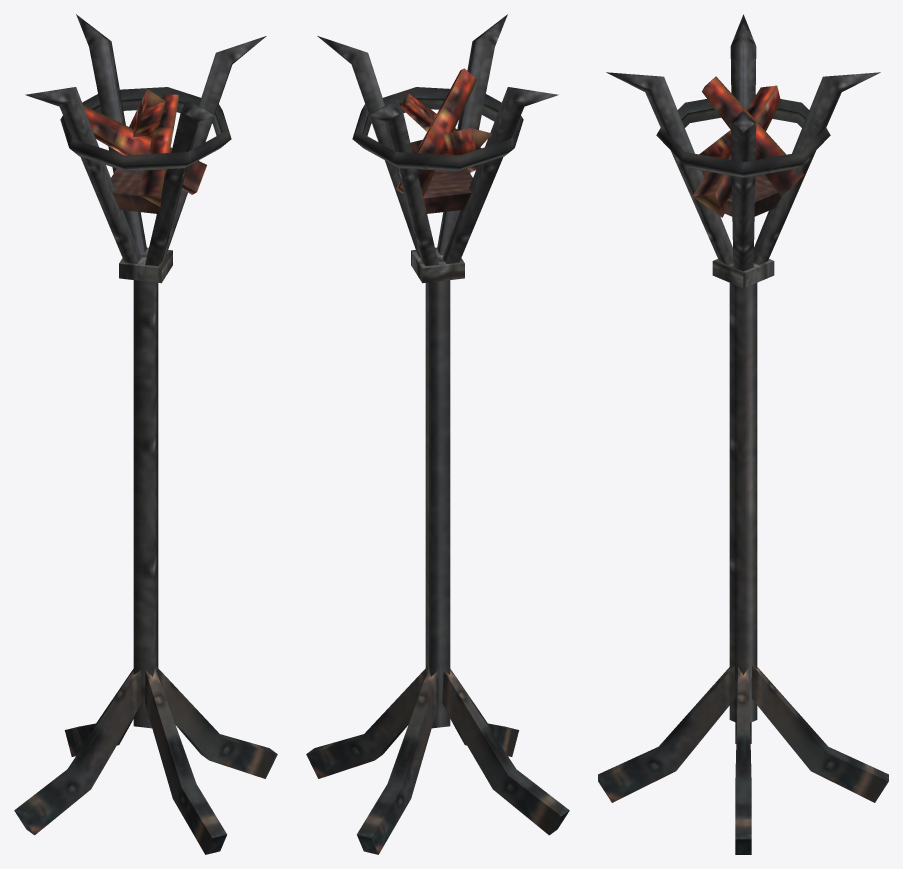
Rendered from Lamp1.fbx.
The picture shows the model from 3 angles, left to right: view 1: azimuth 30°, elevation 25°; view 2: azimuth 150°, elevation 25°; view 3: azimuth 270°, elevation 25°; orthographic projection.
Parts seen in each view (by area): view 1: Lamp1; view 2: Lamp1; view 3: Lamp1.
Part boxes in pixels (x1,y1,x2,y2): Lamp1: (14,14,277,854); Lamp1: (306,14,569,854); Lamp1: (598,14,888,854).
Size of the model in its own units: 57.79 by 160 by 57.89.
